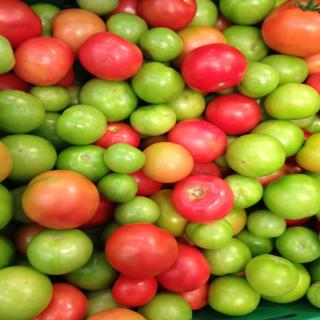tomato: (0, 0, 320, 320), (184, 38, 253, 88)
